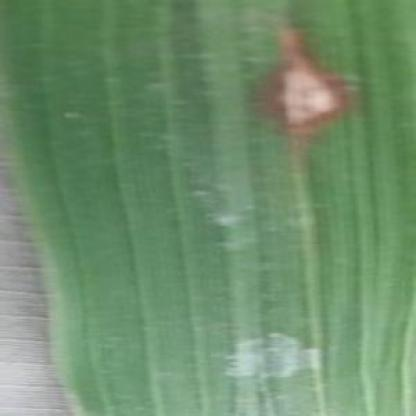Rice blast: (266, 21, 354, 147)
